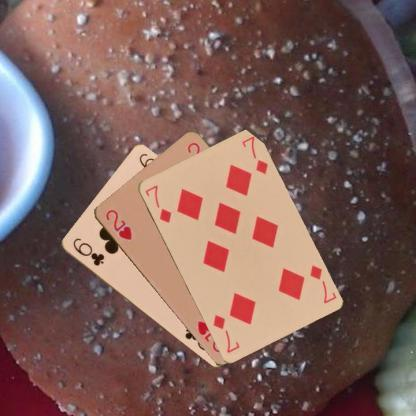2h: (102, 207, 134, 243)
6c: (70, 234, 106, 268)
7d: (306, 262, 338, 305), (142, 182, 173, 224)
